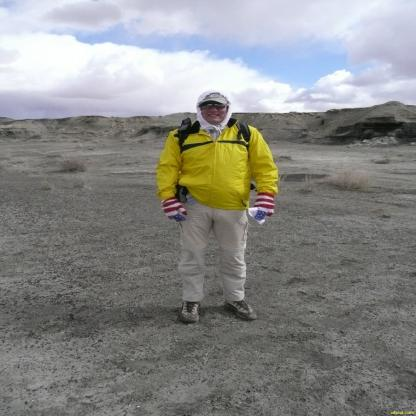person: (156, 82, 283, 327)
